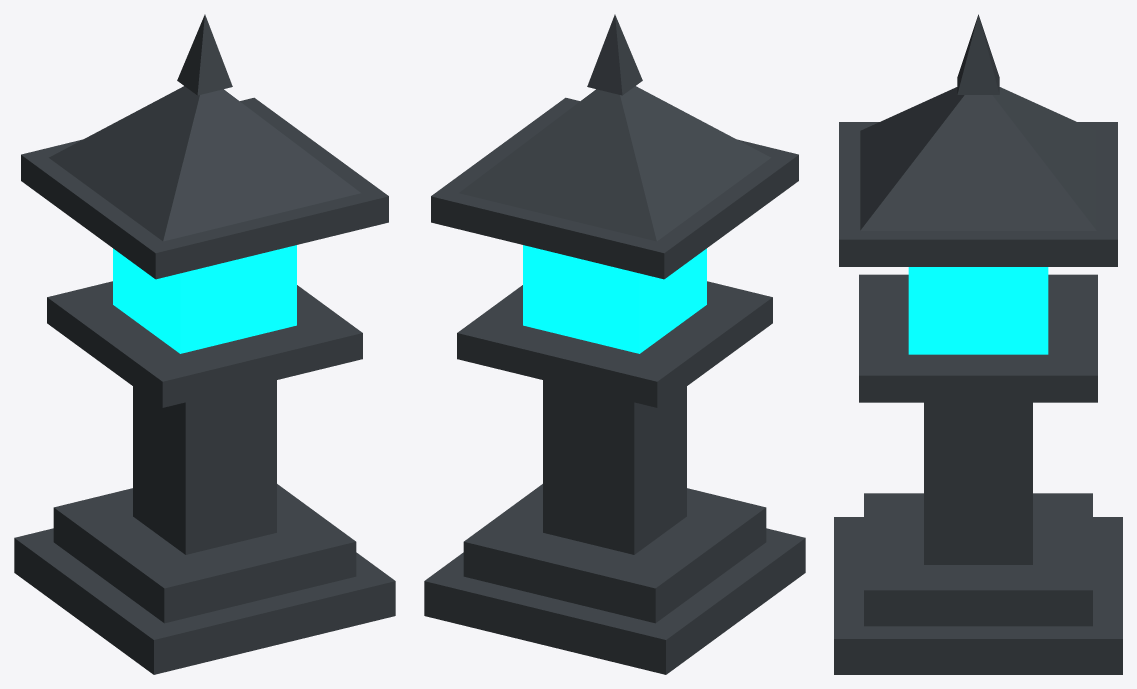
The model's file is Shrine_lantern.glb.
3 views of the same model, side by side, from view 1: azimuth 30°, elevation 25°; view 2: azimuth 150°, elevation 25°; view 3: azimuth 270°, elevation 25° (orthographic). The views are drawn at different scales.
Parts seen in each view (by area): view 1: Shrine_Lantern_LowPoly; view 2: Shrine_Lantern_LowPoly; view 3: Shrine_Lantern_LowPoly.
Boxes of the visible parts, box(x1,y1,x2,y2) form: Shrine_Lantern_LowPoly: box(14, 14, 395, 674); Shrine_Lantern_LowPoly: box(424, 14, 805, 674); Shrine_Lantern_LowPoly: box(834, 14, 1122, 674).
Bounding box in the file's own units: 0.58 × 1.33 × 0.58.
